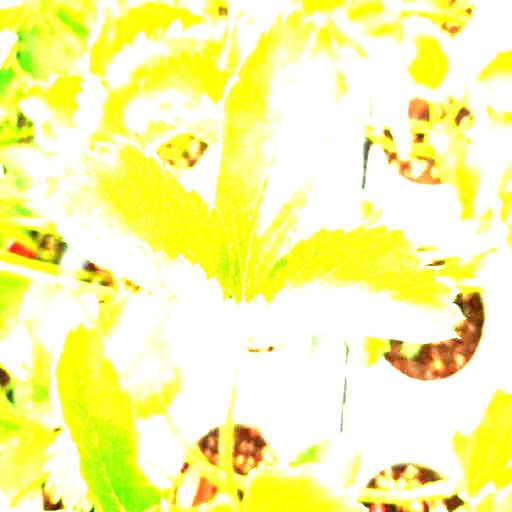Powdery Mildew Leaf: (30, 136, 250, 362), (211, 3, 359, 301), (237, 219, 465, 347)
